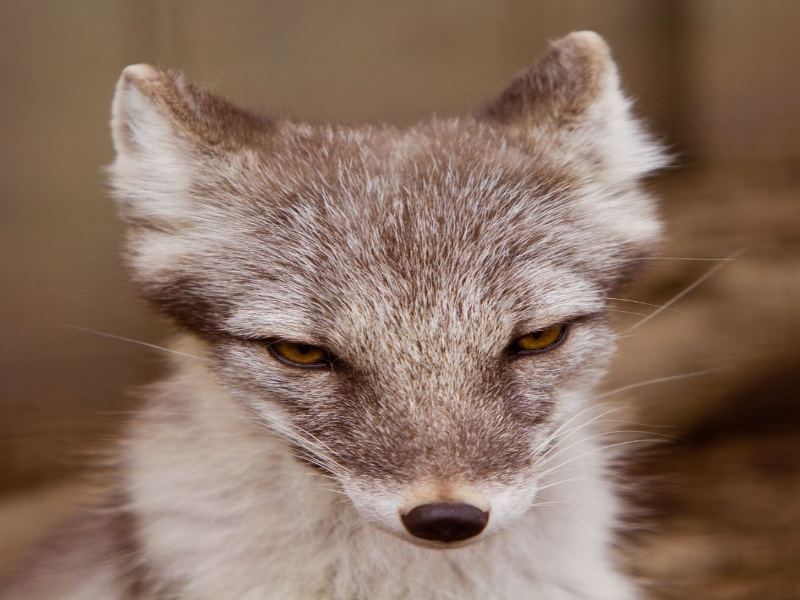fox: (103, 21, 675, 600)
